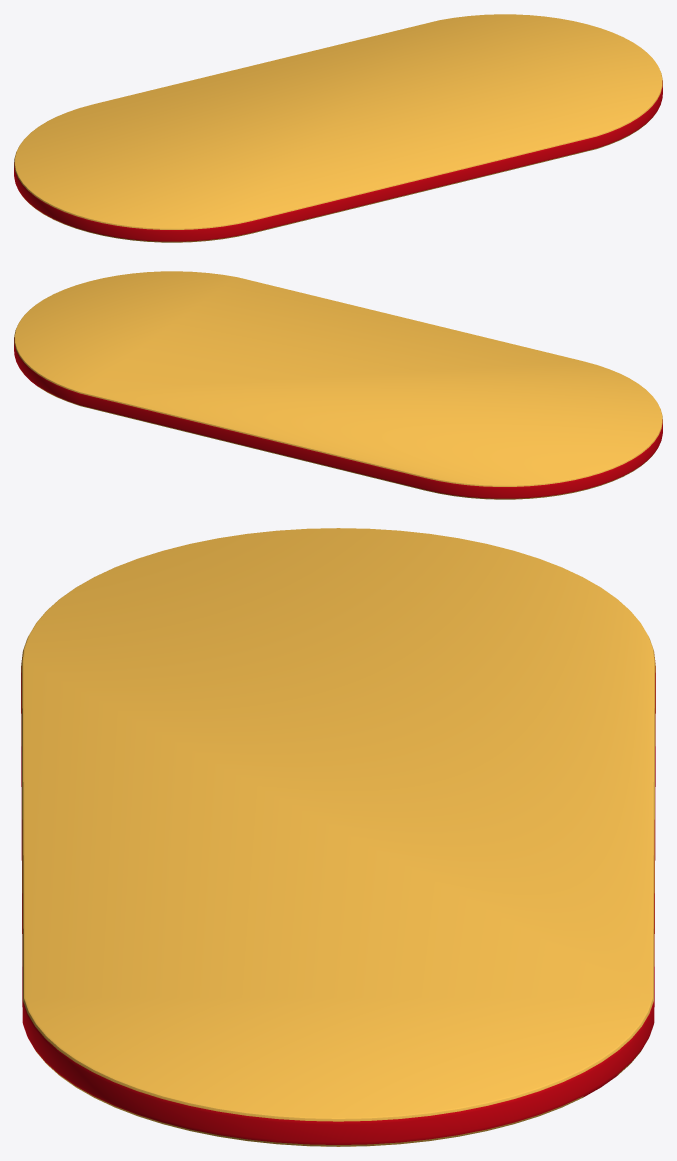
Rendered from SM_Building_Ceiling_2.fbx.
3 renders of one model, top to bottom at view 1: azimuth 30°, elevation 25°; view 2: azimuth 150°, elevation 25°; view 3: azimuth 270°, elevation 25°, orthographic. The views are drawn at different scales.
Visible parts, largest first — view 1: SM_Building_Ceiling_2; view 2: SM_Building_Ceiling_2; view 3: SM_Building_Ceiling_2.
Boxes of the visible parts, bbox=[...] form: SM_Building_Ceiling_2: bbox=[14, 14, 662, 242]; SM_Building_Ceiling_2: bbox=[14, 271, 662, 499]; SM_Building_Ceiling_2: bbox=[21, 528, 655, 1146].
Size of the model in its own units: 6.49 by 0.15 by 2.94.
